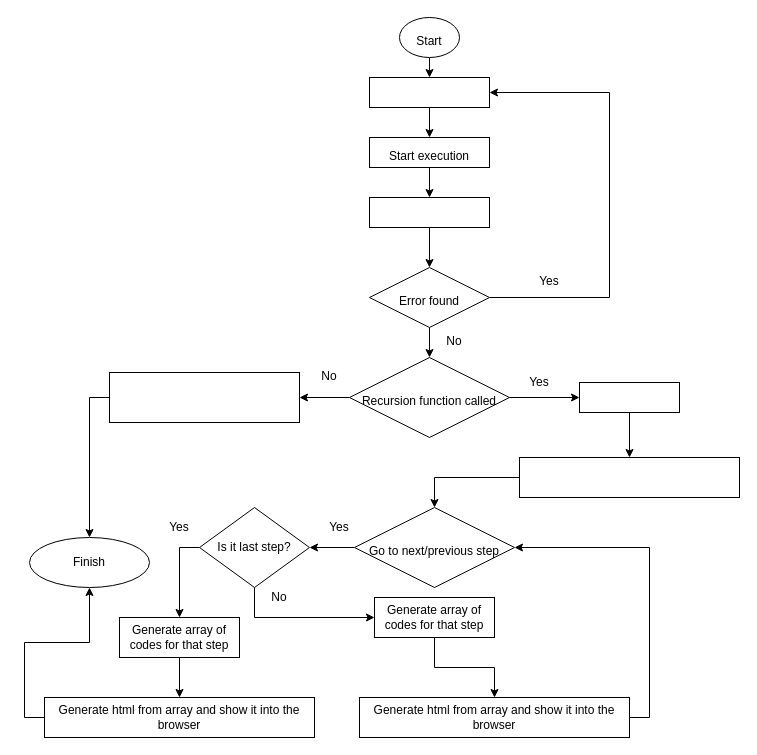
This 757x755 diagram has some shape labels left out. Each missing label, with the centre of its shape:
"Compile code" belongs at (429,212).
"Debug code" belongs at (629,397).
"Generate execution trace for each line of code" belongs at (629,477).
"Visualize coed using pythontutor visualizer procedure" belongs at (204,397).
"Write code" belongs at (429,92).
